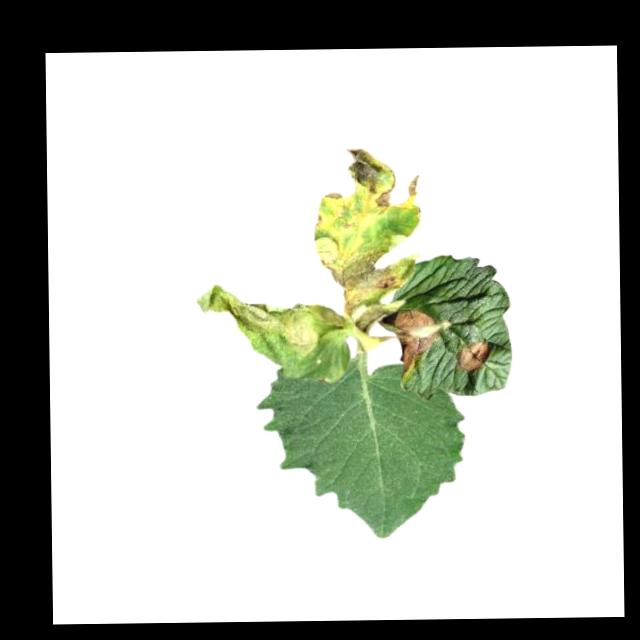Late_blight: (195, 282, 349, 376), (312, 146, 397, 236), (318, 243, 411, 317), (375, 307, 443, 378), (401, 173, 426, 219), (460, 339, 492, 371)
healthy: (255, 359, 466, 541)
